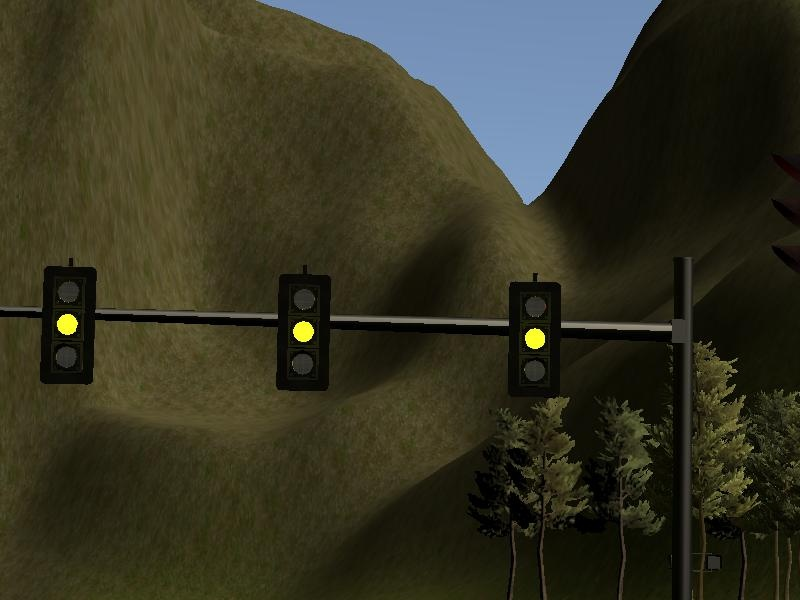YELLOW: (503, 277, 563, 402), (273, 267, 333, 392), (38, 260, 98, 385)
